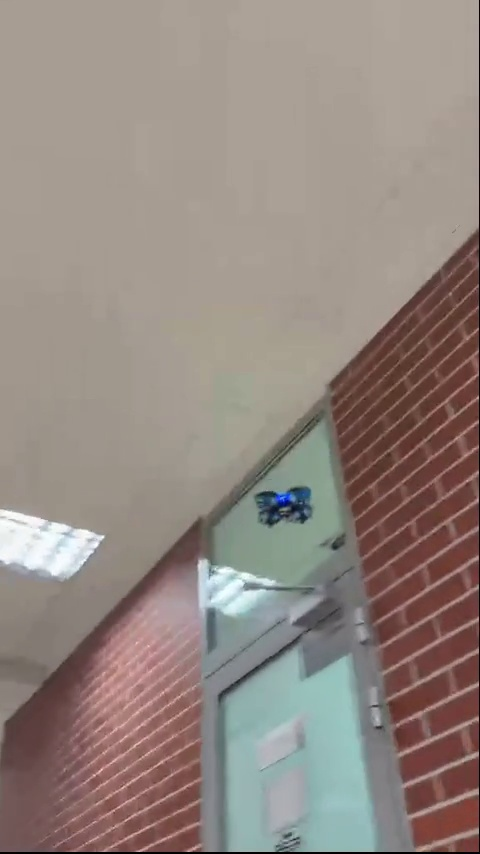drone: (249, 487, 313, 521)
